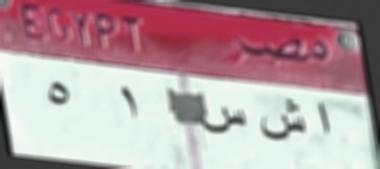1: (112, 78, 150, 129)
5: (31, 79, 82, 117)
alif: (310, 97, 346, 142)
seen: (198, 104, 252, 138)
sheen: (259, 96, 307, 151)
